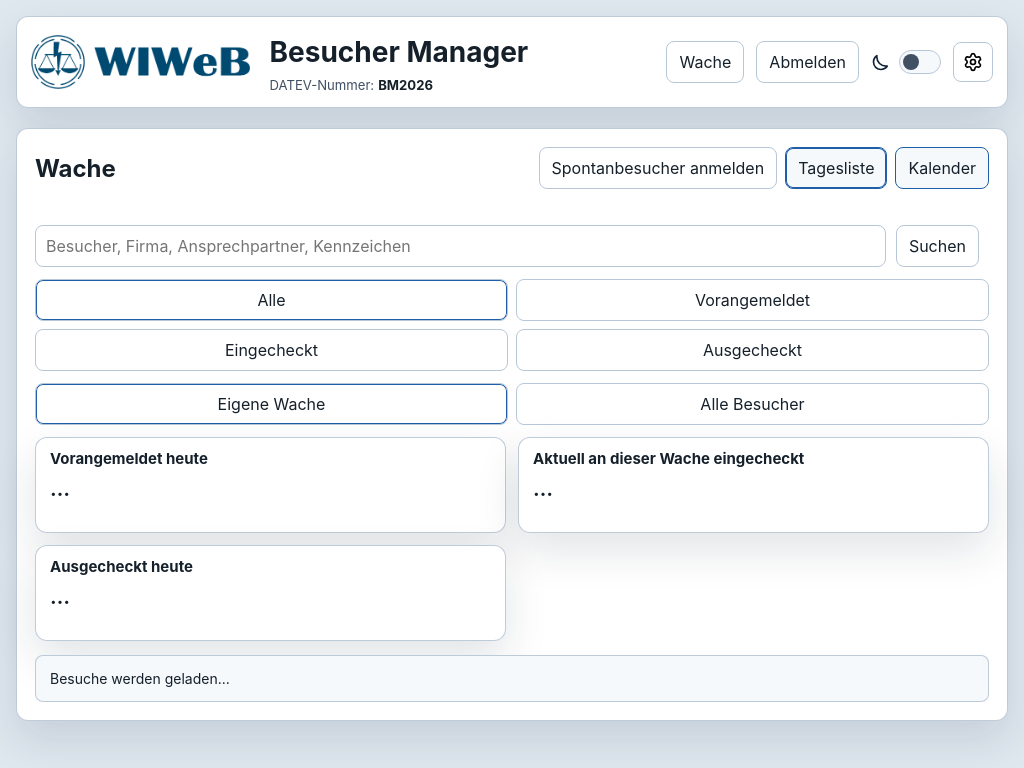
Scenario: walk-in form › submits a minimal new visitor with null existingVisitorId exactly once
What coordinates should you click on to do the following:
click the button "Spontanbesucher anmelden"
I would click on:
 (658, 168)
Its box is [538,147,777,189].
(page scrolled)
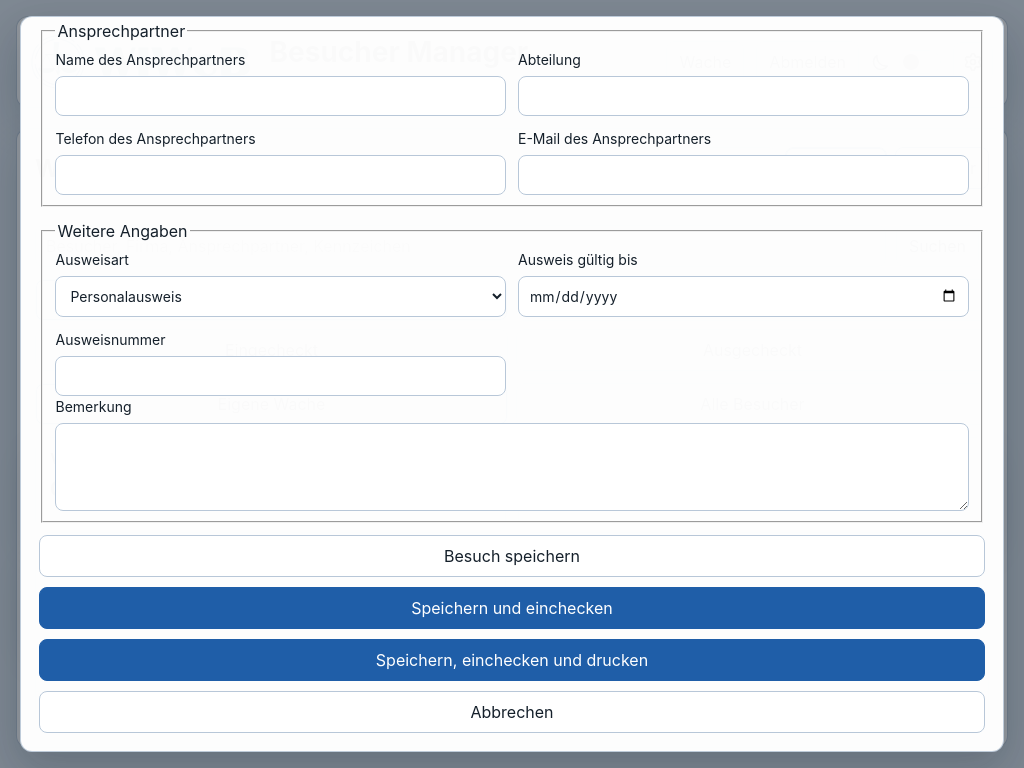
What coordinates should you click on to do the following:
click the button "Besuch speichern"
I would click on:
 (512, 556)
Its box is [40,534,984,576].
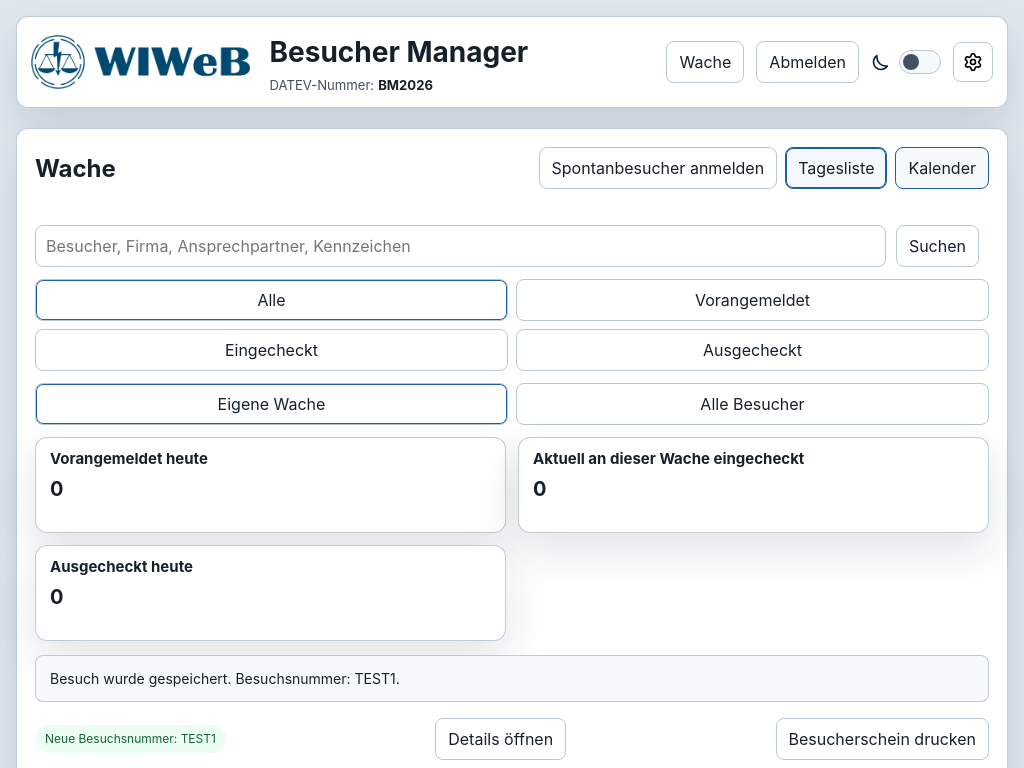
Check: the text "Besuch wurde gespeichert. Besuchsnummer: TEST1." is shown, box [35,655,989,702]
